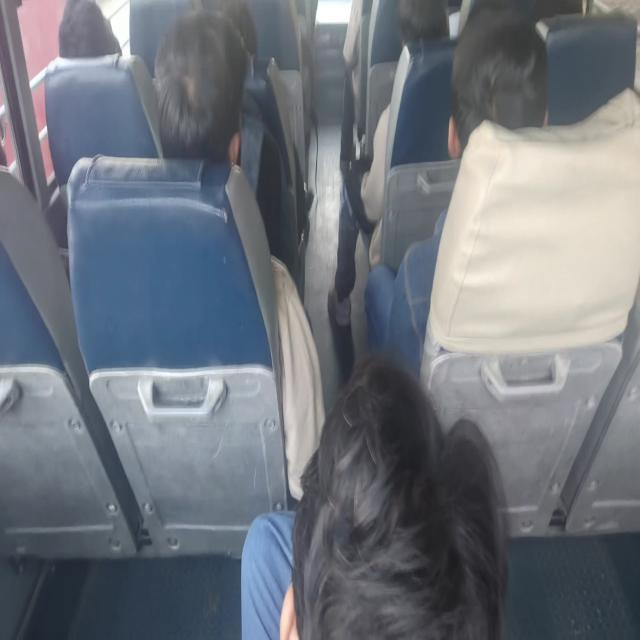person: (240, 352, 508, 638), (363, 4, 549, 374), (152, 8, 306, 298), (327, 0, 453, 330), (152, 9, 247, 166), (44, 0, 122, 185), (57, 0, 122, 58)
